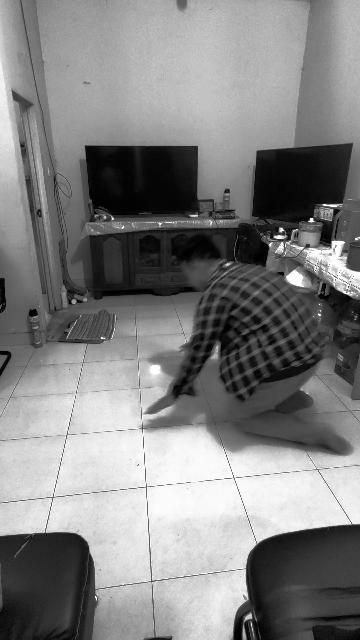jatuh: (142, 237, 350, 459)
